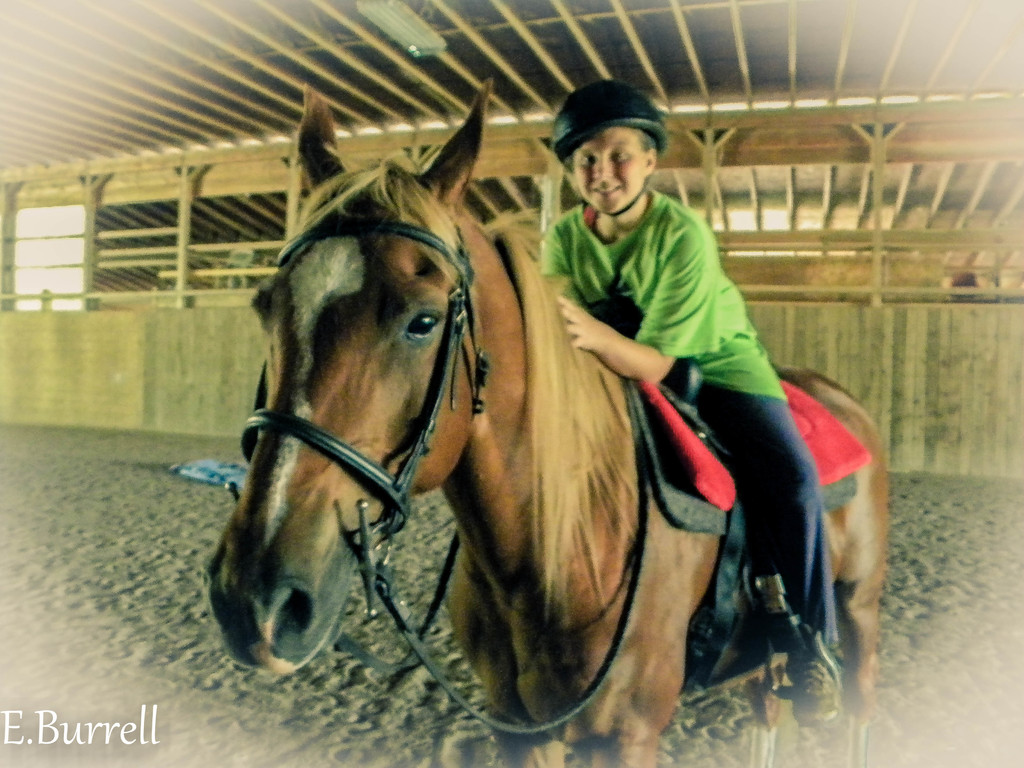Person: (540, 78, 846, 729)
